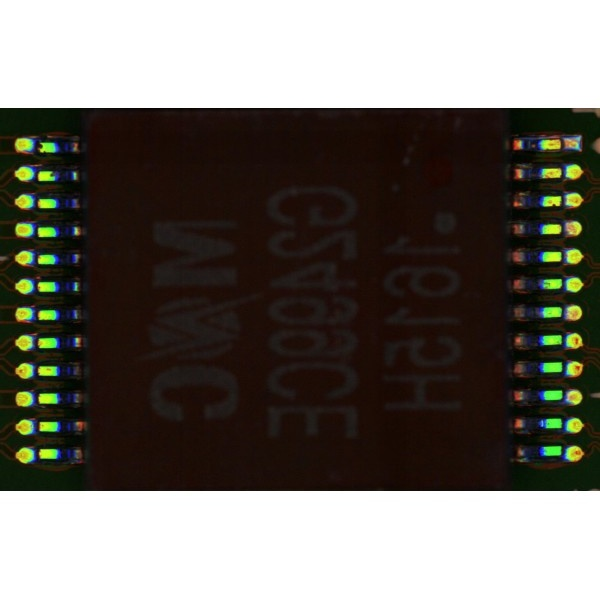Bad_podu: (554, 139, 572, 149), (553, 225, 574, 233)
